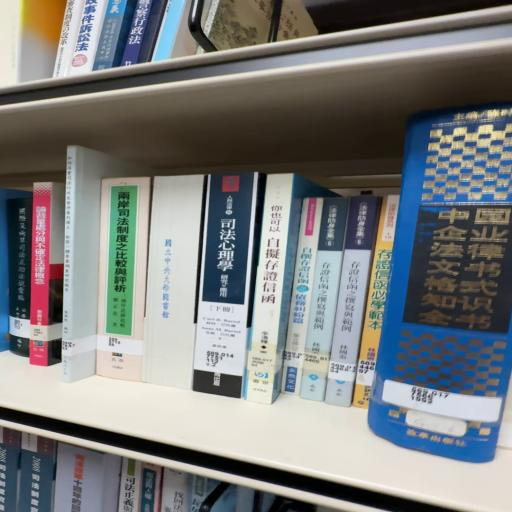backward: (143, 182, 205, 396)
book: (196, 179, 264, 407), (322, 187, 380, 408)
